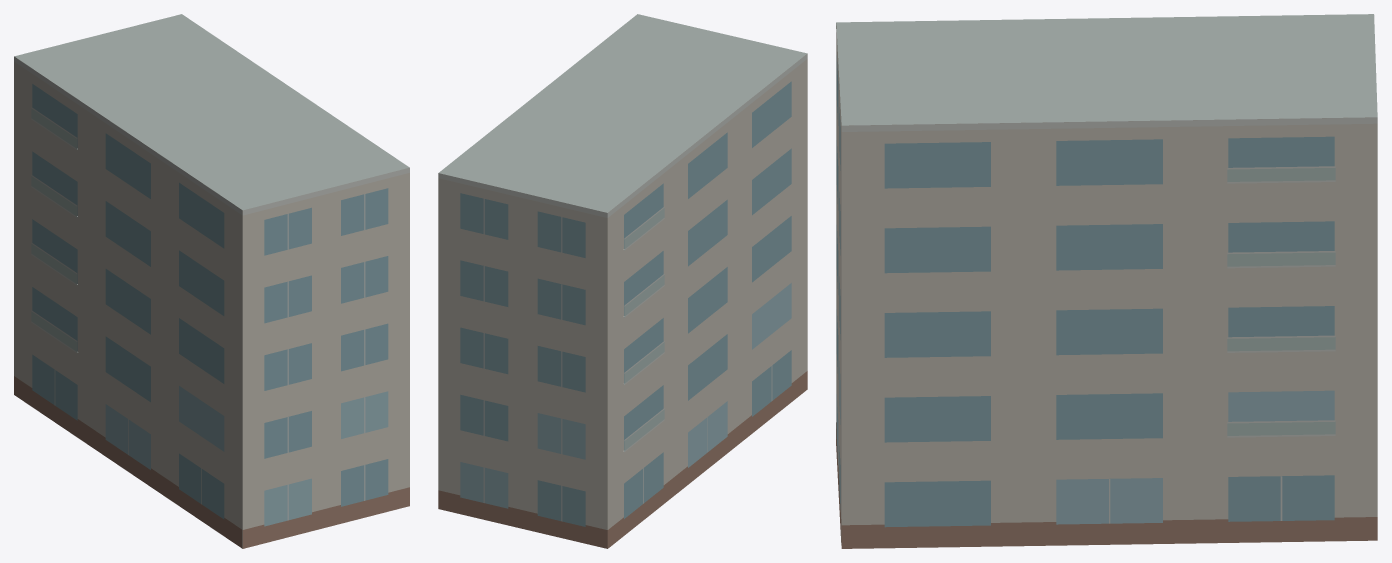
Rendered from survey-upis-32556765.glb.
3 views of the same model, side by side, from view 1: azimuth 30°, elevation 25°; view 2: azimuth 150°, elevation 25°; view 3: azimuth 270°, elevation 25° (orthographic). The views are drawn at different scales.
Visible parts, largest first — view 1: survey-upis-32556765.tmp; view 2: survey-upis-32556765.tmp; view 3: survey-upis-32556765.tmp.
Part boxes in pixels (x1,y1,x2,y2): survey-upis-32556765.tmp: [14, 14, 409, 548]; survey-upis-32556765.tmp: [438, 14, 807, 548]; survey-upis-32556765.tmp: [836, 14, 1377, 548].
Bounding box in the file's own units: 9 × 15.9 × 18.44.
